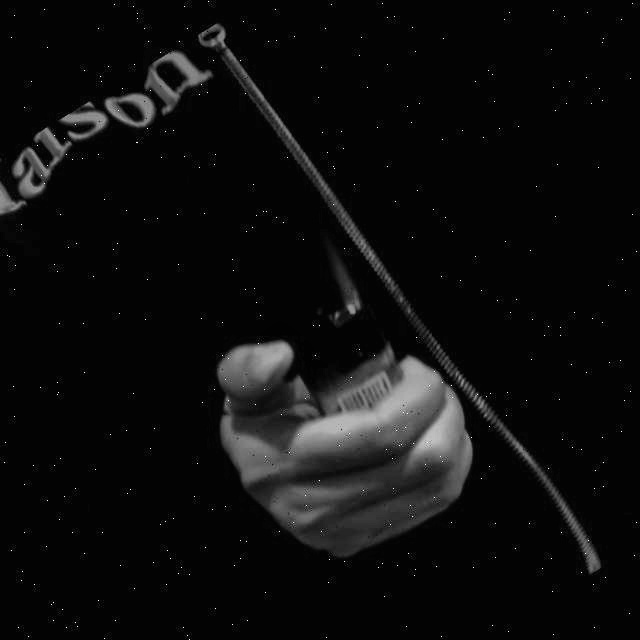Fire: (296, 211, 374, 310)
